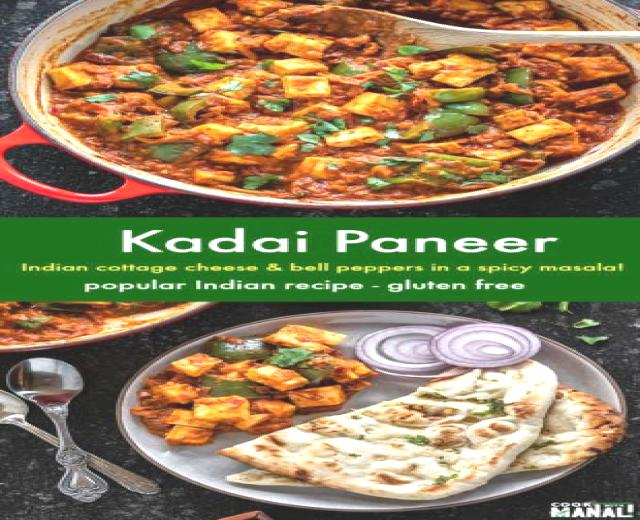kadai paneer: (0, 296, 615, 519), (0, 2, 630, 206), (0, 356, 157, 498), (264, 2, 634, 54), (0, 121, 184, 202), (0, 303, 221, 353), (613, 0, 625, 504)
